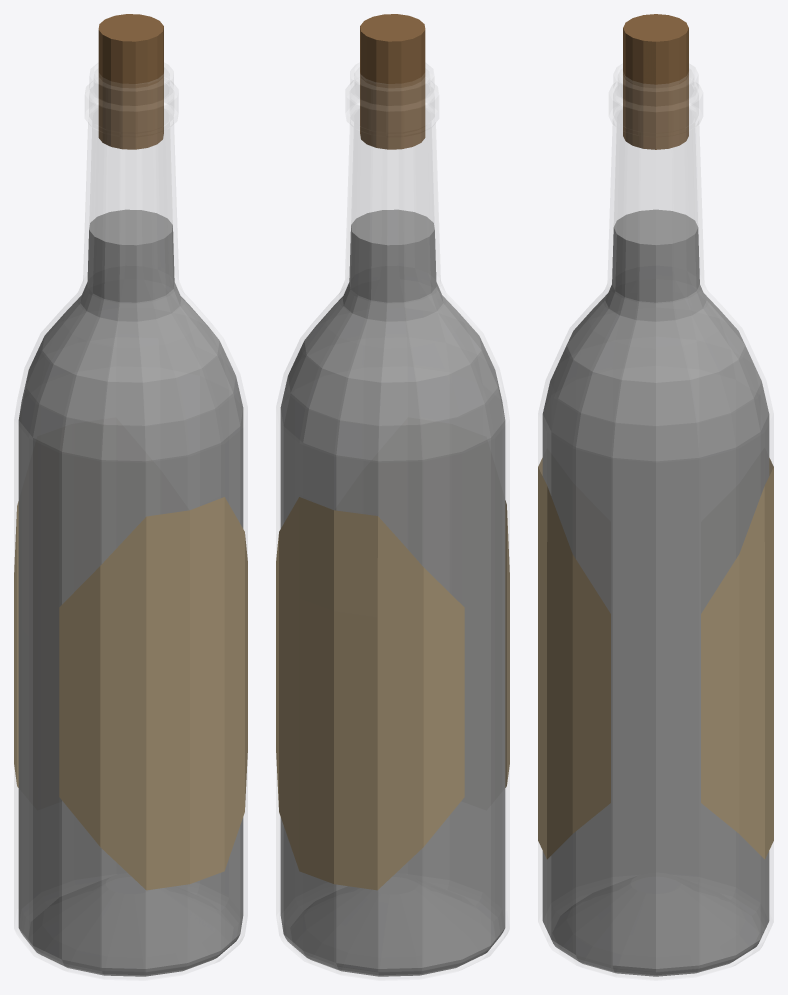
The model's file is Bottle_6.fbx.
3 views of the same model, side by side, from view 1: azimuth 30°, elevation 25°; view 2: azimuth 150°, elevation 25°; view 3: azimuth 270°, elevation 25° (orthographic).
Visible parts, largest first — view 1: Bottle6.001, Cork.004; view 2: Bottle6.001, Cork.004; view 3: Bottle6.001, Cork.004.
Boxes of the visible parts, x1=… form: Bottle6.001: x1=14, y1=63, x2=247, y2=980; Cork.004: x1=98, y1=14, x2=163, y2=149; Bottle6.001: x1=276, y1=63, x2=509, y2=980; Cork.004: x1=360, y1=14, x2=425, y2=149; Bottle6.001: x1=538, y1=64, x2=773, y2=980; Cork.004: x1=623, y1=14, x2=688, y2=149.
Size of the model in its own units: 27.56 by 117 by 27.56.
